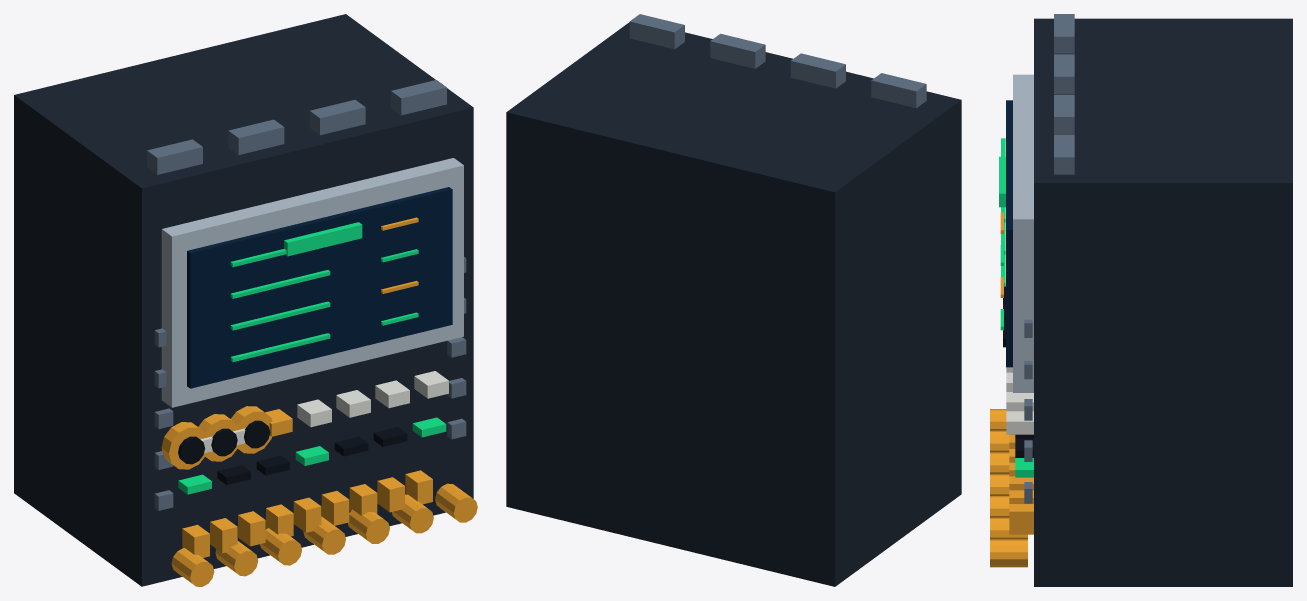
File: 62_L87_HabitatEmergencyLightingLoad.fbx
The picture shows the model from 3 angles, left to right: view 1: azimuth 30°, elevation 25°; view 2: azimuth 150°, elevation 25°; view 3: azimuth 270°, elevation 25°; orthographic projection. The views are drawn at different scales.
Parts seen in each view (by area): view 1: L87_HabitatEmergencyLightingLoad, L87_HabitatEmergencyLightingLoad_Part_0009, L87_HabitatEmergencyLightingLoad_Part_0010, L87_HabitatEmergencyLightingLoad_Part_0011, L87_HabitatEmergencyLightingLoad_Part_0015, L87_HabitatEmergencyLightingLoad_Part_0013, L87_HabitatEmergencyLightingLoad_Part_0012; view 2: L87_HabitatEmergencyLightingLoad, L87_HabitatEmergencyLightingLoad_Part_0009; view 3: L87_HabitatEmergencyLightingLoad, L87_HabitatEmergencyLightingLoad_Part_0009.
Boxes of the visible parts, <box> form: L87_HabitatEmergencyLightingLoad: <box>14,14,477,586</box>; L87_HabitatEmergencyLightingLoad_Part_0009: <box>147,80,446,174</box>; L87_HabitatEmergencyLightingLoad_Part_0010: <box>284,222,362,256</box>; L87_HabitatEmergencyLightingLoad_Part_0011: <box>161,422,207,469</box>; L87_HabitatEmergencyLightingLoad_Part_0015: <box>231,406,272,453</box>; L87_HabitatEmergencyLightingLoad_Part_0013: <box>198,414,239,461</box>; L87_HabitatEmergencyLightingLoad_Part_0012: <box>178,436,205,464</box>; L87_HabitatEmergencyLightingLoad: <box>506,22,961,586</box>; L87_HabitatEmergencyLightingLoad_Part_0009: <box>629,14,926,108</box>; L87_HabitatEmergencyLightingLoad: <box>990,18,1292,586</box>; L87_HabitatEmergencyLightingLoad_Part_0009: <box>1054,14,1074,174</box>.
Bounding box in the file's own units: 107 × 128 × 83.48.
